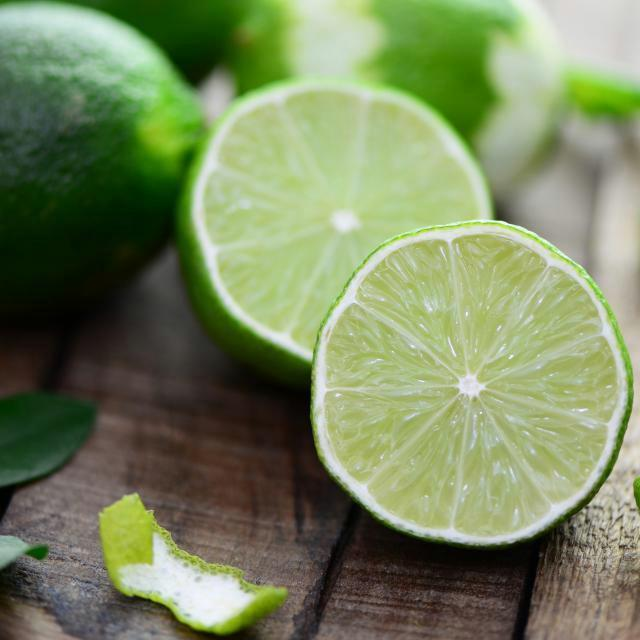lime: (230, 0, 583, 242), (0, 0, 222, 330), (0, 0, 264, 107)
